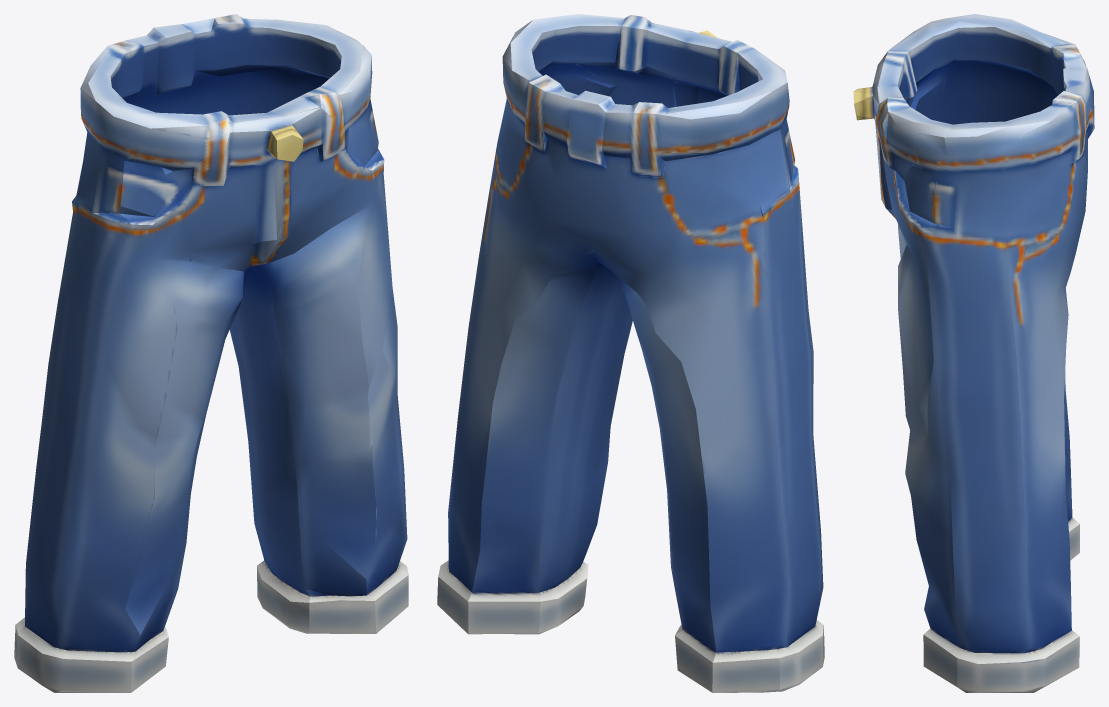
File: TT_JeansBlue.glb
3 views of the same model, side by side, from view 1: azimuth 30°, elevation 25°; view 2: azimuth 150°, elevation 25°; view 3: azimuth 270°, elevation 25° (orthographic). The views are drawn at different scales.
Parts seen in each view (by area): view 1: geometry_0; view 2: geometry_0; view 3: geometry_0.
Part boxes in pixels (x1,y1,x2,y2): geometry_0: (14, 14, 408, 692); geometry_0: (437, 14, 824, 692); geometry_0: (853, 14, 1094, 692).
Bounding box in the file's own units: 0.66 × 1 × 0.4034.
Materials: 1 (1 with a texture image).
